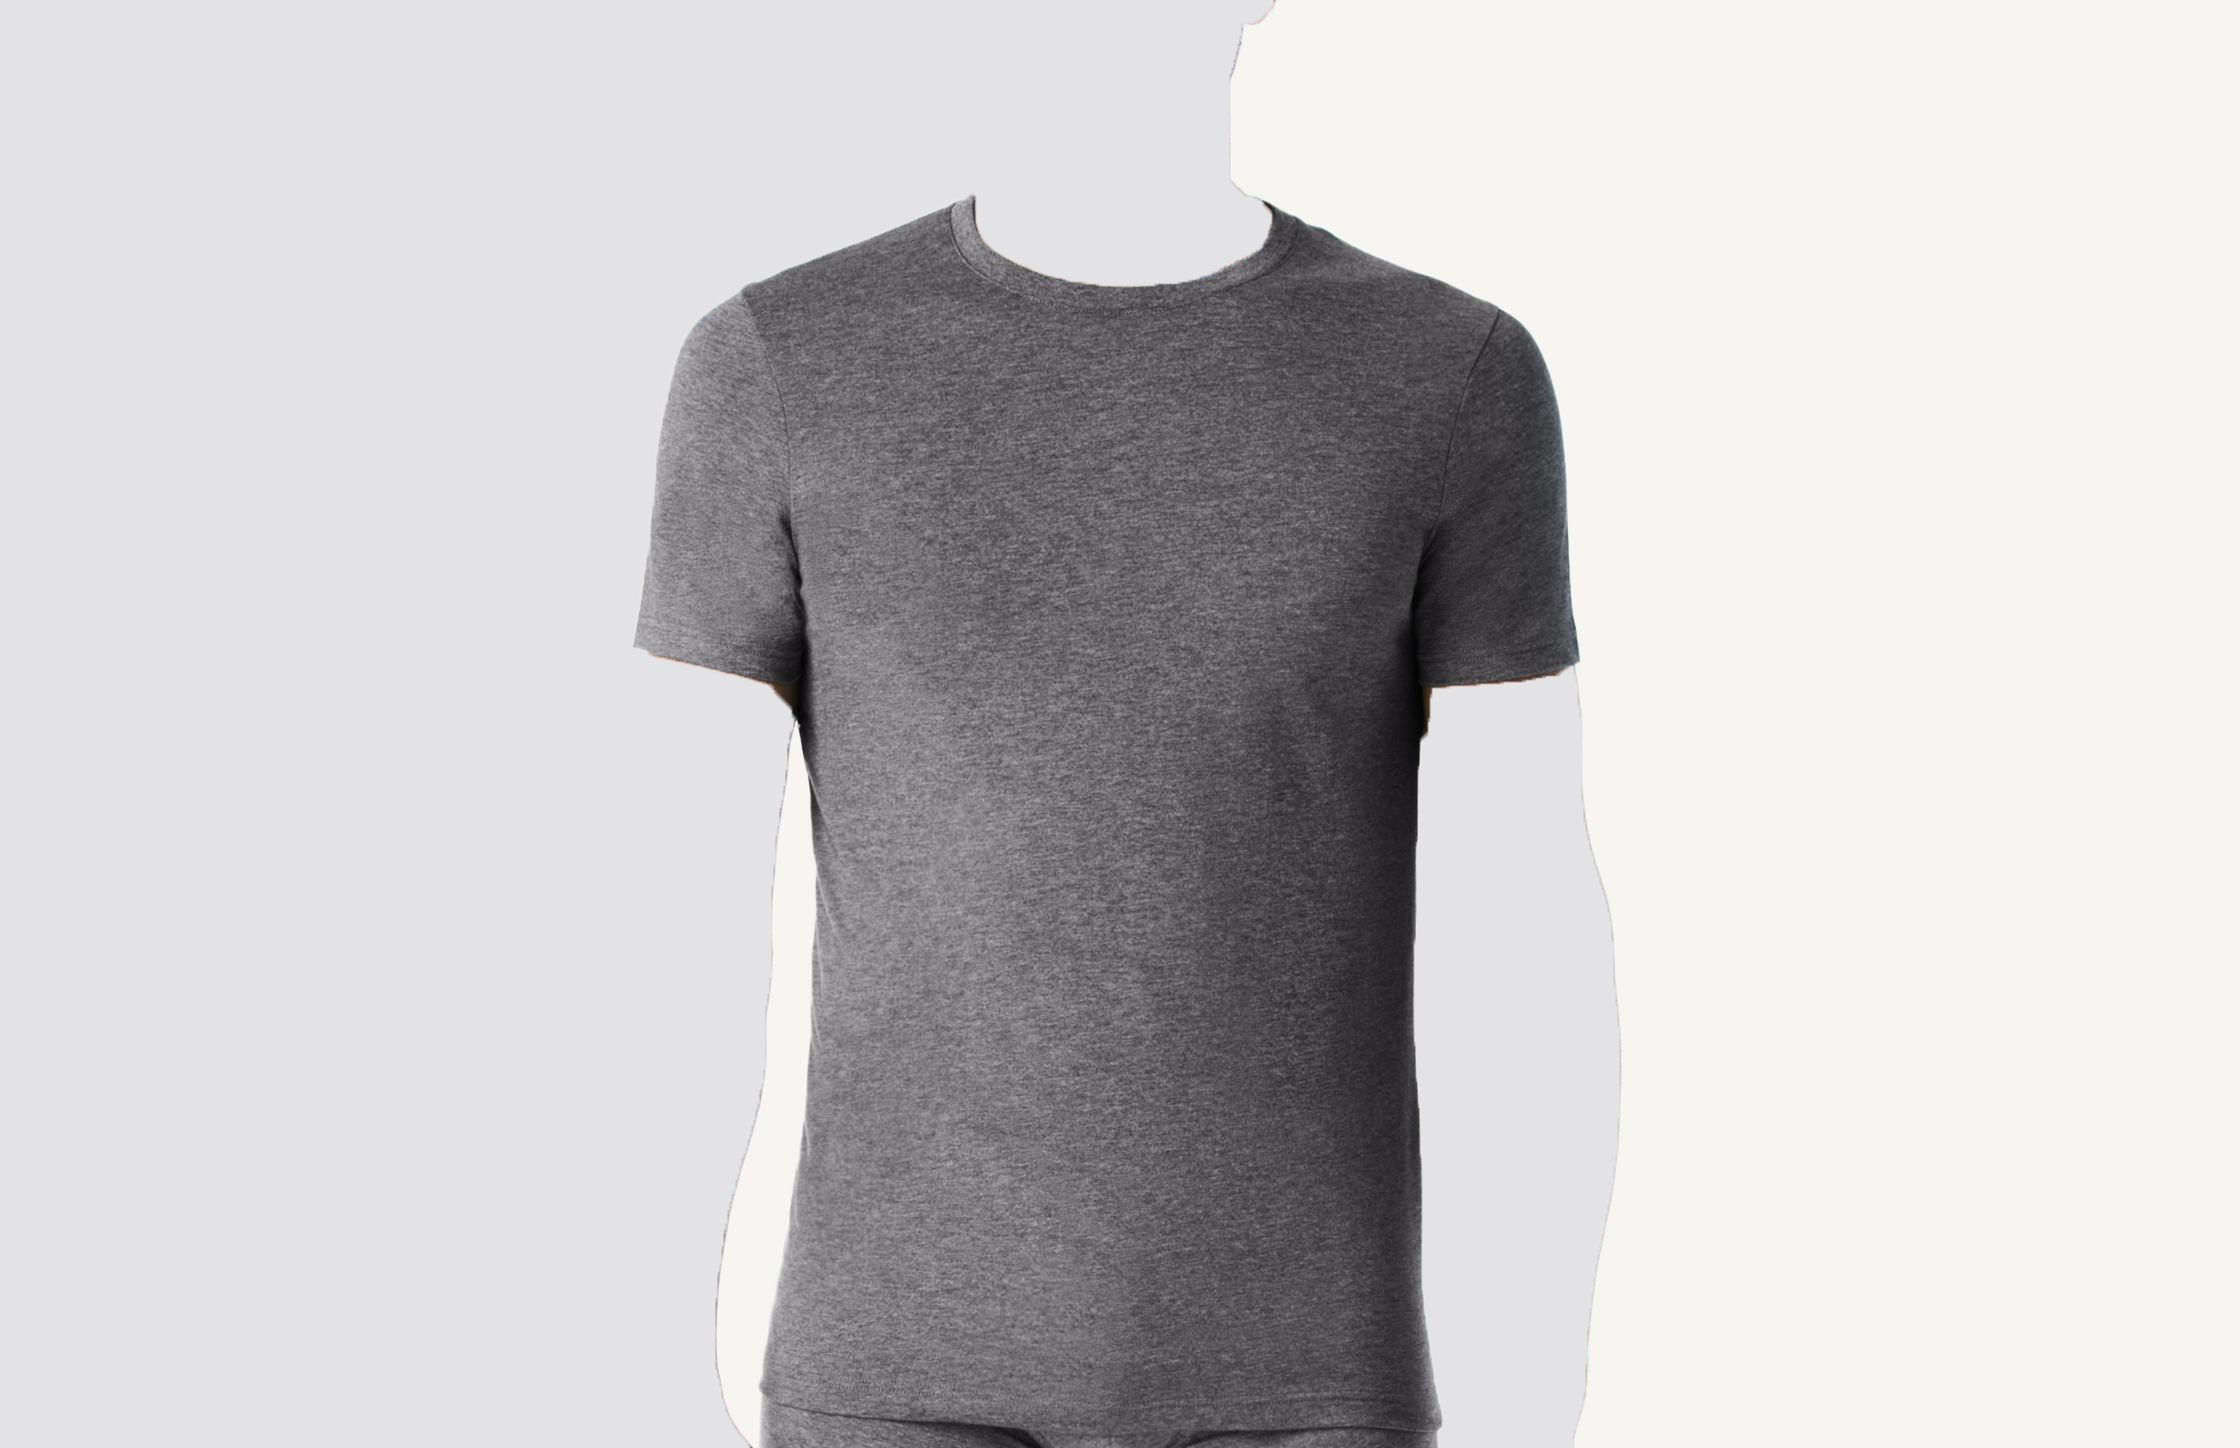teeshirt: (630, 189, 1593, 1448)
